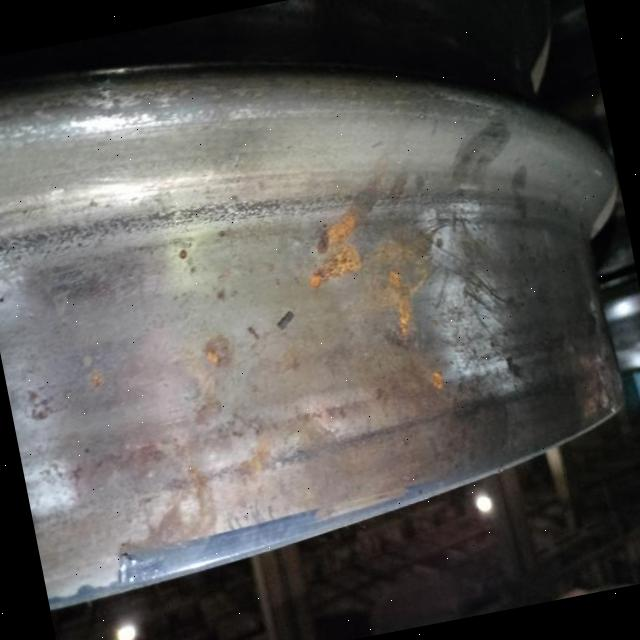Blue hole: (273, 306, 304, 342)
Contact_Fatigue_Cracks: (439, 198, 511, 354)
